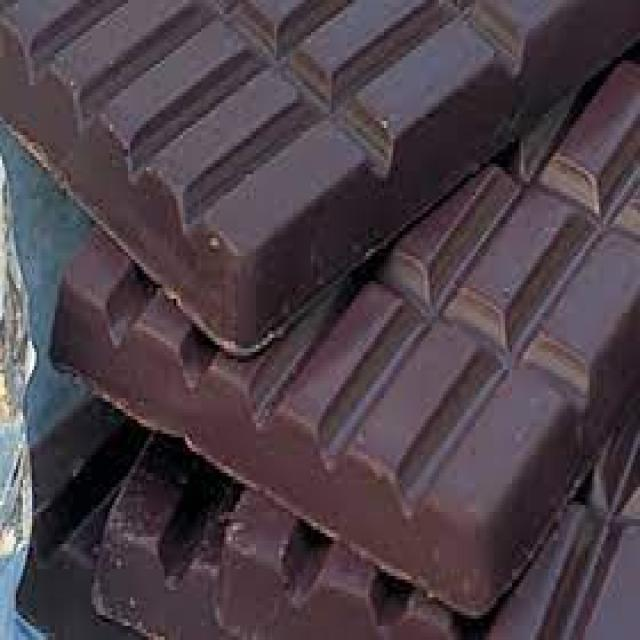Chocolate: (53, 37, 606, 609)
